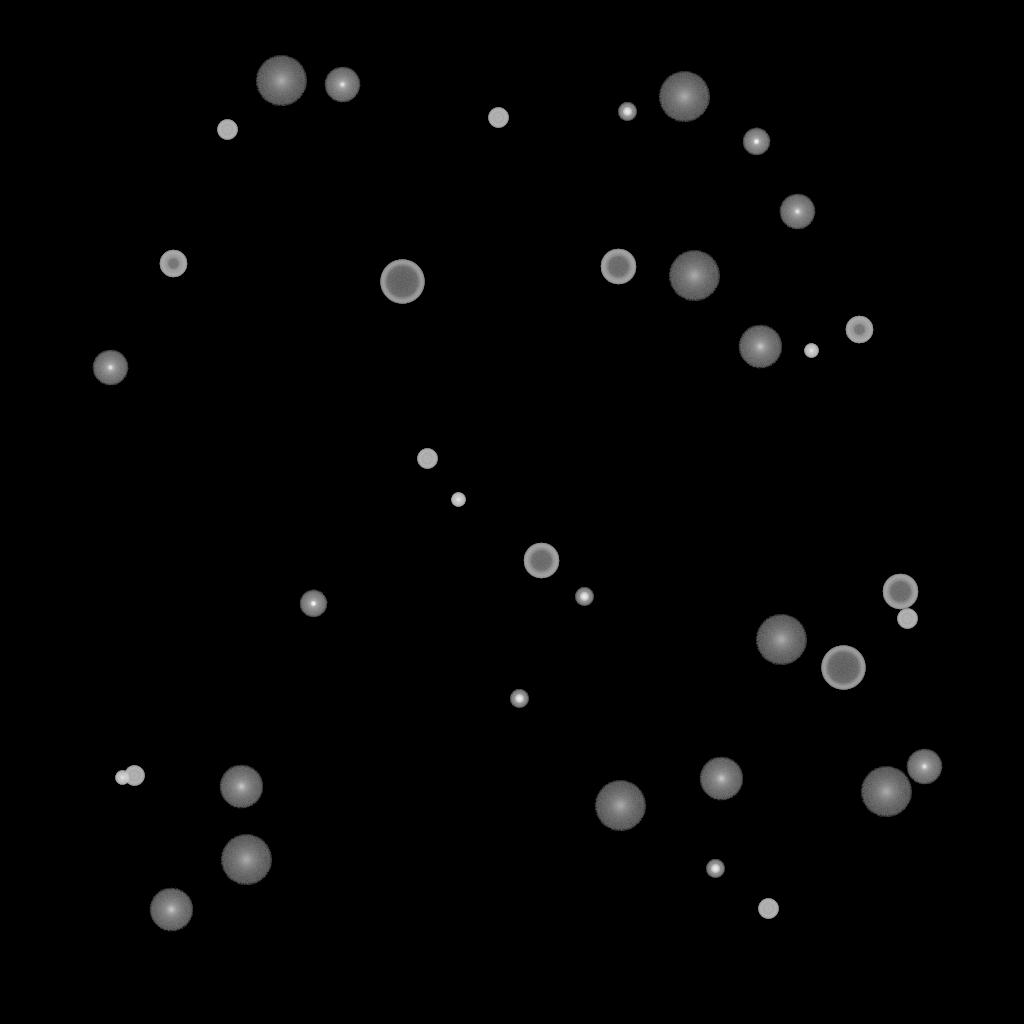depth:-10: (742, 128, 770, 156), (299, 590, 327, 618)
depth:-20: (706, 860, 724, 878), (510, 690, 528, 708), (618, 103, 636, 121), (575, 588, 593, 606)
depth:-30: (451, 493, 465, 507), (115, 771, 129, 785), (804, 344, 818, 358)
depth:-40: (124, 766, 144, 786), (217, 120, 237, 140), (488, 108, 508, 128), (897, 609, 917, 629), (417, 449, 437, 469), (758, 899, 778, 919)
depth:-50: (159, 250, 187, 278), (845, 316, 873, 344)
depth:-60: (882, 574, 918, 610), (600, 249, 636, 285), (523, 543, 559, 579)
depth:-70: (821, 646, 865, 690), (380, 260, 424, 304)
depth:0: (906, 749, 942, 785), (92, 350, 128, 386), (779, 194, 815, 230), (324, 67, 360, 103)
depth:10: (149, 888, 193, 932), (219, 765, 263, 809), (699, 757, 743, 801), (738, 325, 782, 369)
depth:20: (658, 72, 710, 122), (668, 251, 720, 301), (860, 767, 912, 817), (220, 835, 272, 885), (255, 56, 307, 106), (594, 781, 646, 831), (755, 615, 807, 665)
